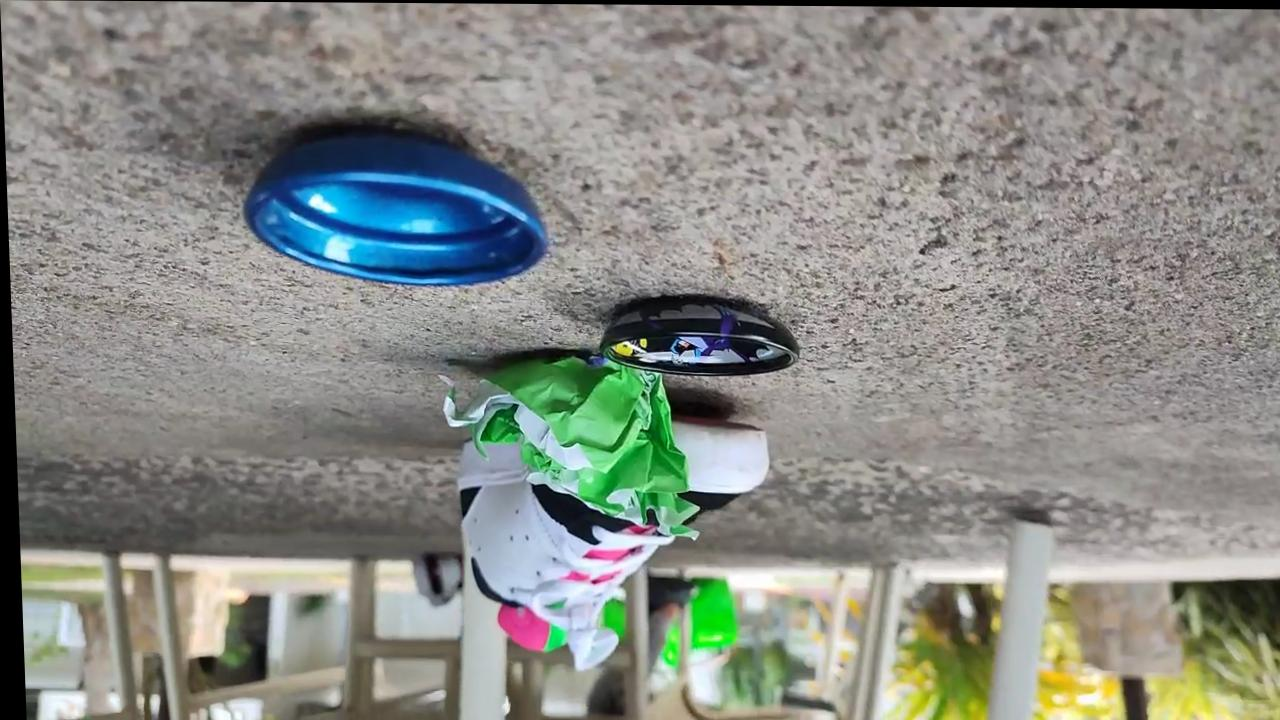paper: (444, 351, 695, 536)
